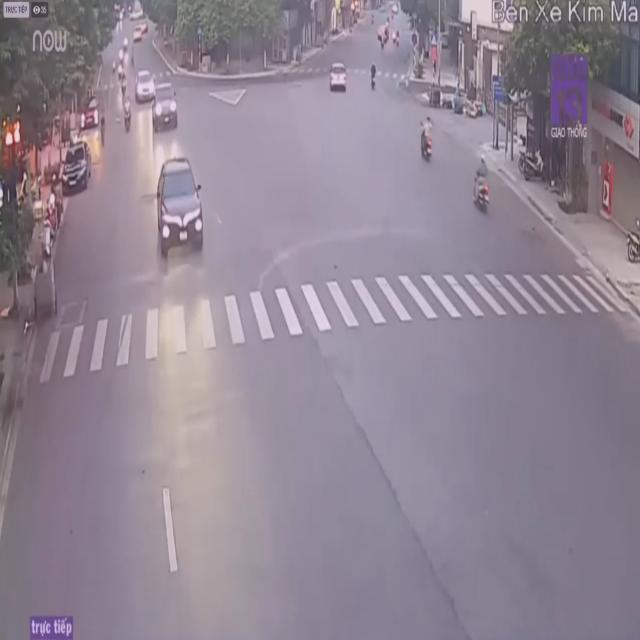car: (154, 156, 209, 263), (60, 139, 92, 196)
motorbike: (474, 156, 492, 216), (419, 114, 435, 162)
